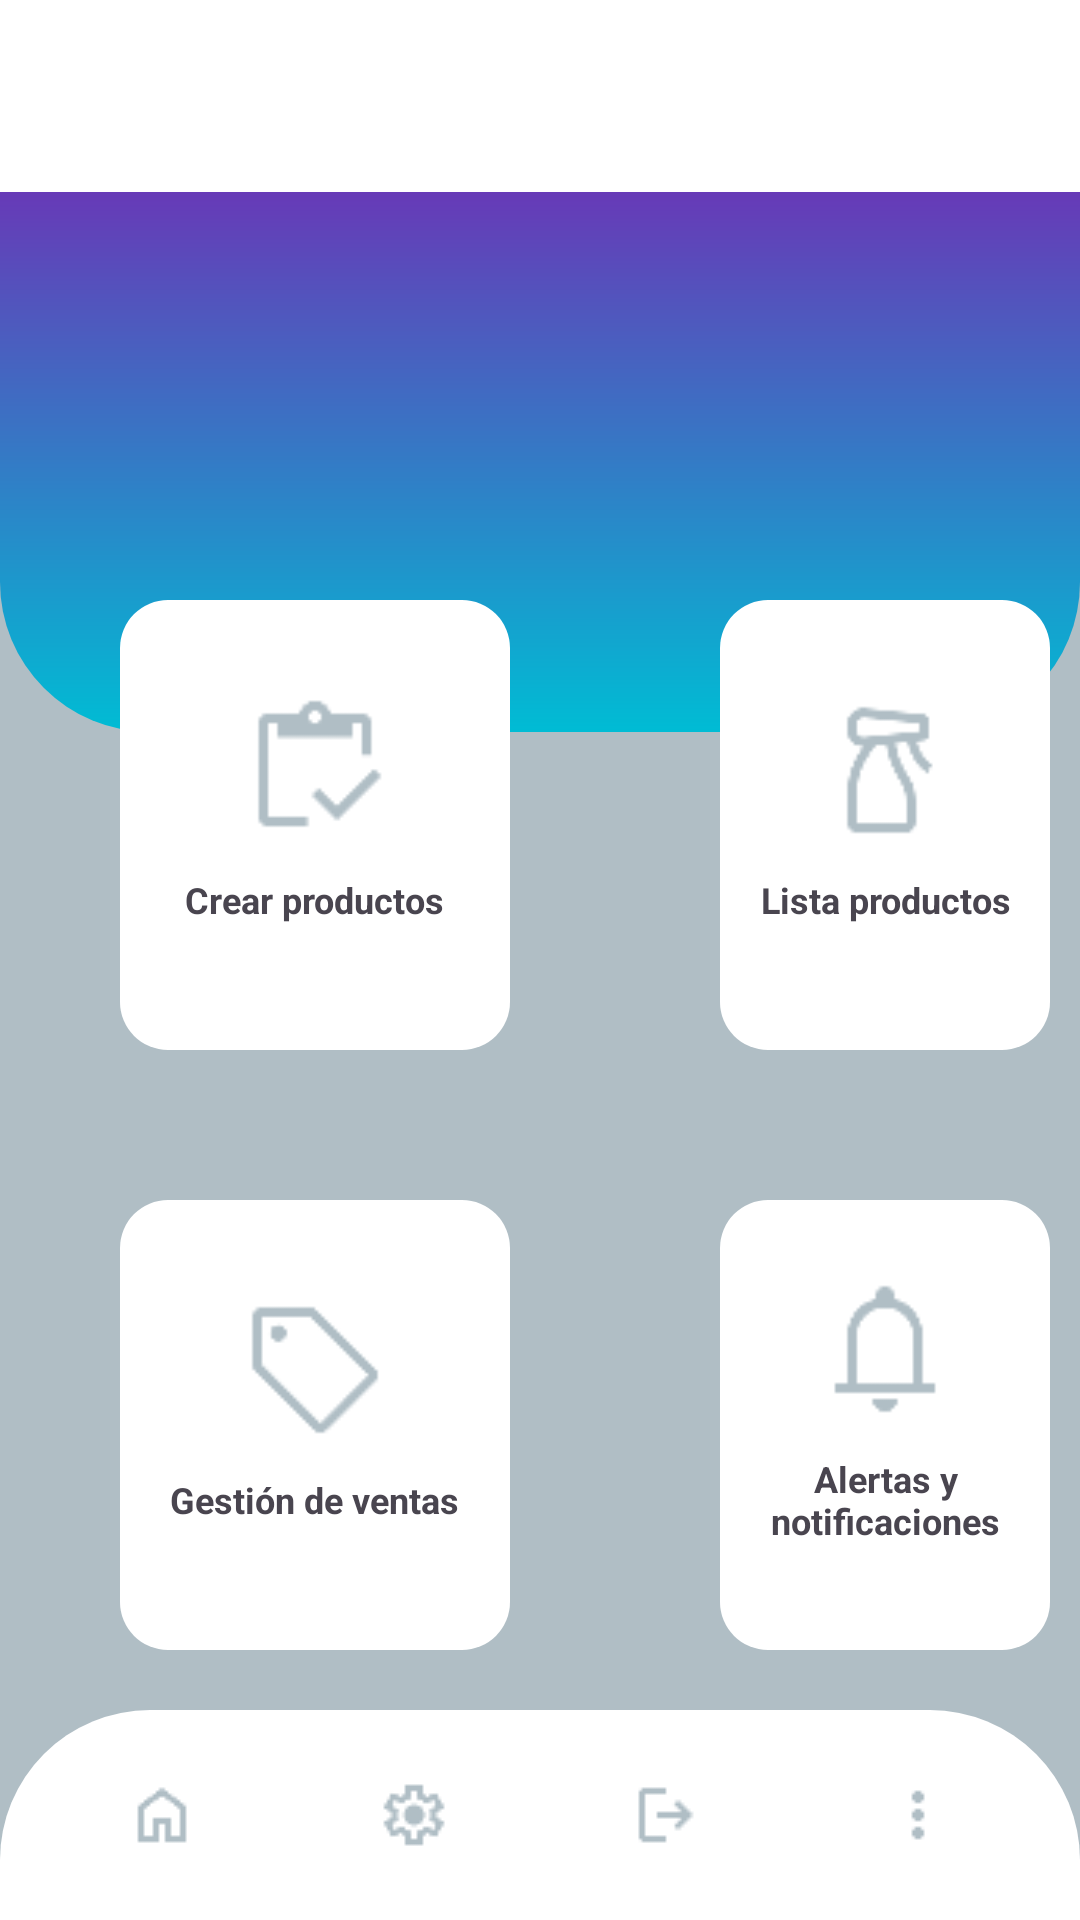

Where to tap for icons on this 1080*1920 app screen, as (x,y):
home: (162,1815)
inventory: (319,764)
more: (918,1815)
notifications: (885,1349)
sell: (315,1370)
settings: (414,1815)
supplies: (889,770)
